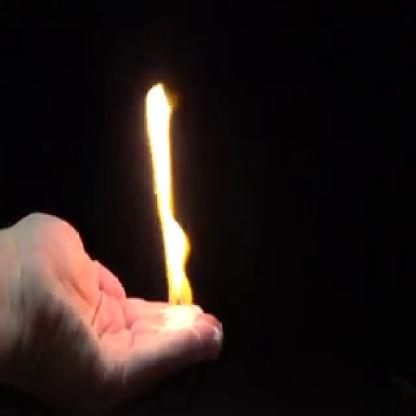fire: (142, 78, 202, 340)
